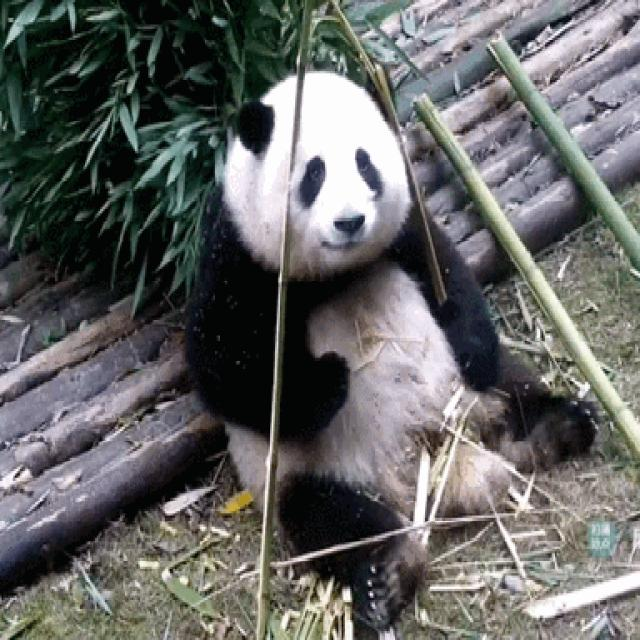panda: (176, 24, 565, 606)
